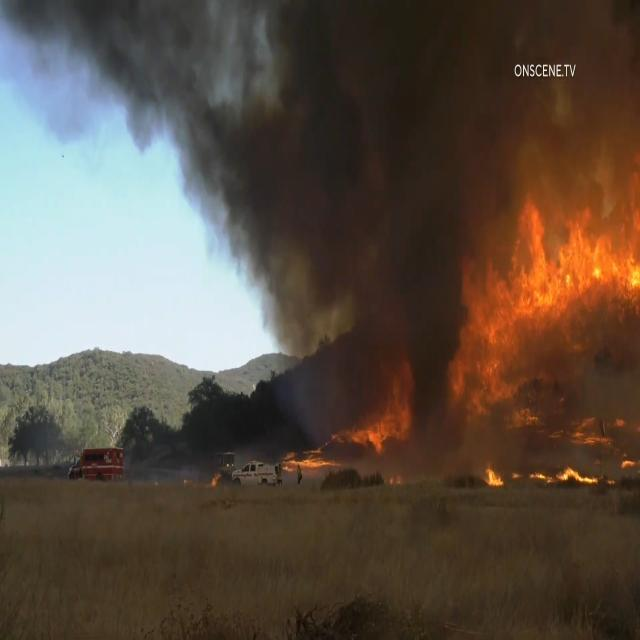Fire: (462, 201, 640, 480), (339, 357, 434, 483)
Smoke: (191, 142, 640, 305), (1, 0, 515, 141), (276, 266, 461, 406), (580, 8, 640, 198)
